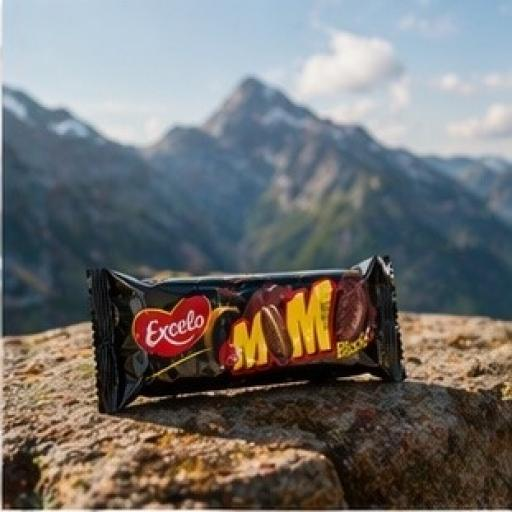MOMO: (59, 209, 439, 437)
